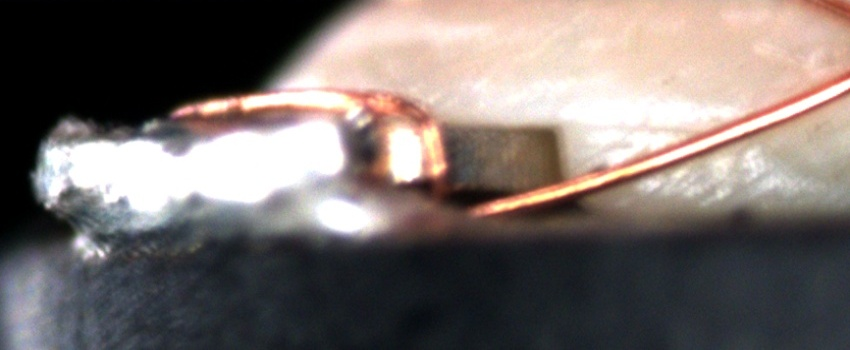DL: (587, 104, 696, 160)
TE: (163, 84, 462, 212)
